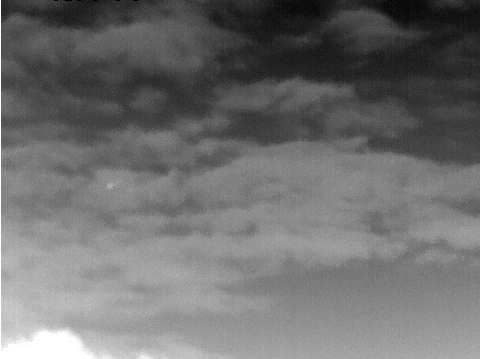dim target: (105, 180, 115, 191)
